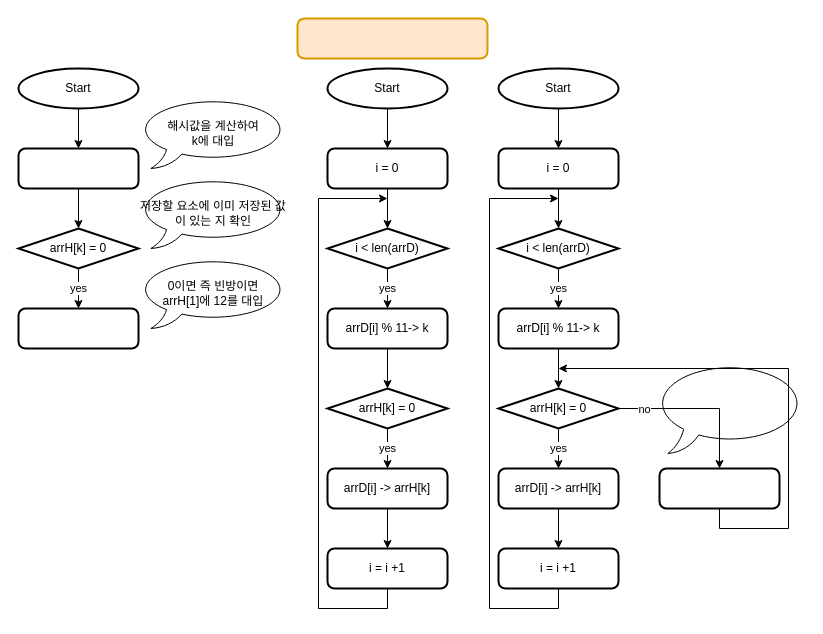
This 823x634 diagram has some shape labels left out. Here are the shapes that lost their labels. From the top down, the centre of each, then its label:
At point 392,38: "Hash Search".
At point 78,168: "arrD[0] % 11-> k".
At point 78,328: "arrD[0] -> arrH[k]".
At point 730,408: "k를 하나 증가하여 0인지의 여부를 다시 한번 확인한다.".
At point 719,488: "k = k + 1".
